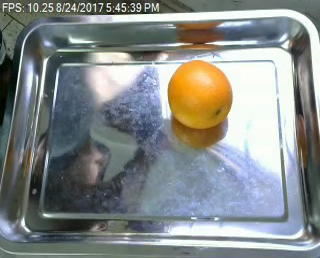Orange: (168, 59, 233, 130)
